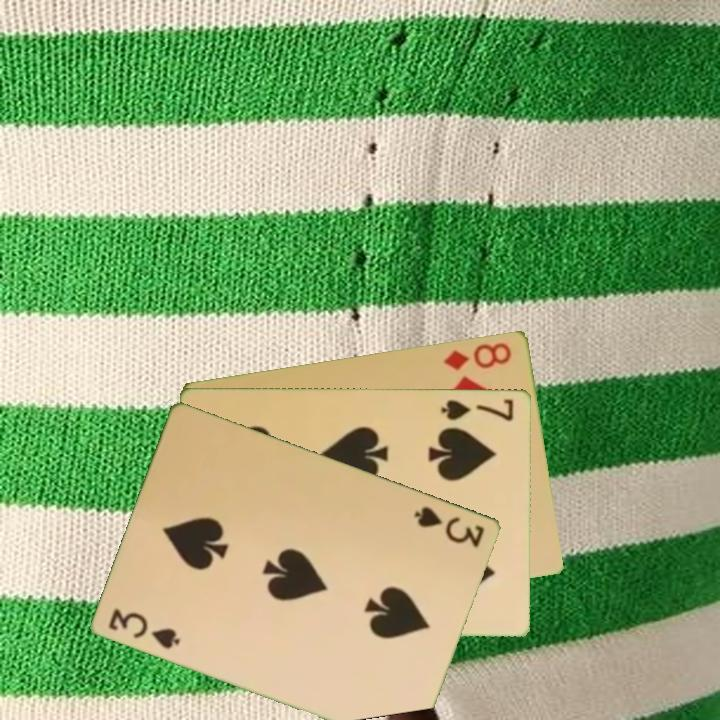3s: (105, 604, 184, 652), (411, 502, 488, 550)
7s: (438, 395, 517, 424)
8d: (440, 338, 515, 373)
